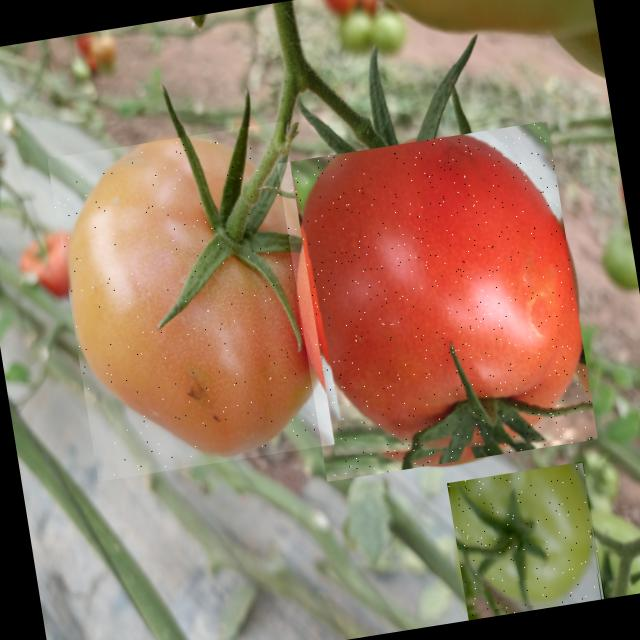Ripe Tomato: (276, 121, 598, 482)
Unripe Tomato: (48, 121, 334, 482), (447, 462, 605, 620)
